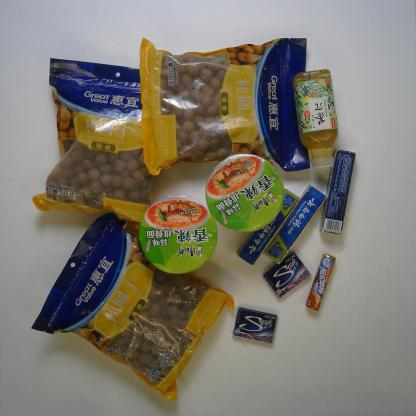Candy: (305, 254, 338, 309)
Dried Food: (31, 209, 234, 401), (135, 32, 315, 178), (30, 56, 162, 223)
Drink: (292, 68, 339, 168)
Gum: (262, 251, 310, 298), (232, 306, 279, 348)
Instant Noodles: (138, 192, 219, 275), (204, 153, 284, 232)
Personal Hygiene: (262, 184, 328, 266), (236, 187, 300, 267), (318, 149, 357, 236)
